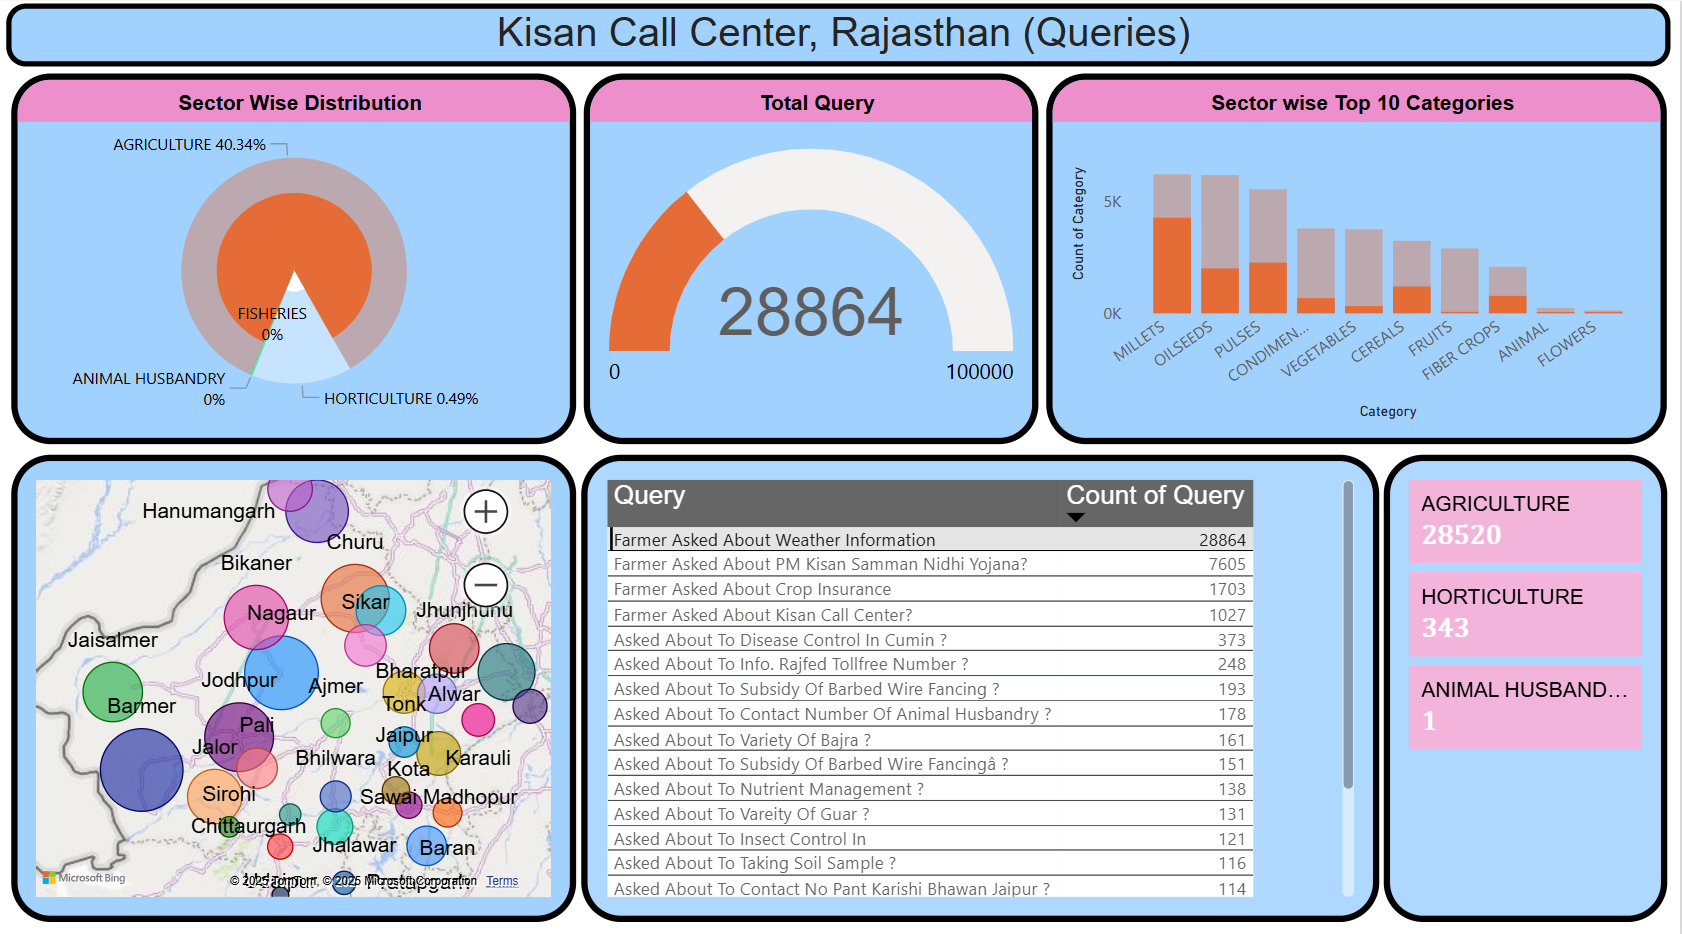

Layout of this report page (visuals, bound fields, positions):
{"tool":"powerbi","page":{"name":"Dashboard","canvas":[1280,720],"ordinal":0},"visuals":[{"type":"map","title":"District Wise Query","fields":{"Size":["CountNonNull(Cleaned.District)"],"Category":["Location (2).District"],"Series":["Location (2).District"],"Y":["Avg(Location (2).Latitude)"],"X":["Avg(Location (2).Longitude)"]},"box":[8.4,346.2,430.7,359.5],"z":0},{"type":"clusteredColumnChart","title":"Top 10 Category Wise Query","fields":{"Category":["Table1_15.Category"],"Y":["CountNonNull(Table1_15.Category)"]},"box":[8.4,51.9,422.3,289.5],"z":1000},{"type":"gauge","title":"Total Query","fields":{"Y":["CountNonNull(Table1_15.Category)"]},"box":[439.1,51.9,445.2,289.5],"z":2000},{"type":"card","title":"Top 1 Query","fields":{"Values":["Min(Cleaned.Query)"]},"box":[443.1,346.9,608.1,33.8],"z":3000},{"type":"tableEx","fields":{"Values":["Cleaned.Query","CountNonNull(Cleaned.Query)"]},"box":[443,383.6,608,322.1],"z":4000},{"type":"pieChart","title":"Sector Wise Distribution","fields":{"Category":["Table1_15.Sector"],"Y":["CountNonNull(Table1_15.Sector)"]},"box":[894,51.9,376.4,289.5],"z":5000},{"type":"multiRowCard","fields":{"Values":["CountNonNull(Table1_15.Sector)","Table1_15.Sector"]},"box":[1054.4,349.9,216,355.9],"z":6000},{"type":"textbox","title":"Kisan Call Center, Rajasthan (Queries)","box":[4.8,2.4,1268,48.3],"z":7000}]}

Visuals, with their boxes in screenshot pixels (x1, y1, x2, y2), scaled from the page's 1280x720 canvas onto the 1682x934 screenshot:
"District Wise Query" map: BBox(11, 449, 577, 915)
"Top 10 Category Wise Query" clusteredColumnChart: BBox(11, 67, 566, 443)
"Total Query" gauge: BBox(577, 67, 1162, 443)
"Top 1 Query" card: BBox(582, 450, 1381, 494)
tableEx - Cleaned.Query x CountNonNull(Cleaned.Query): BBox(582, 498, 1381, 915)
"Sector Wise Distribution" pieChart: BBox(1175, 67, 1669, 443)
multiRowCard - CountNonNull(Table1_15.Sector) x Table1_15.Sector: BBox(1386, 454, 1669, 916)
"Kisan Call Center, Rajasthan (Queries)" textbox: BBox(6, 3, 1673, 66)
